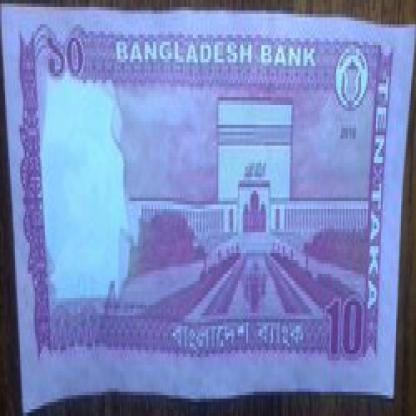Ten Taka: (20, 24, 95, 83), (323, 292, 368, 375)
